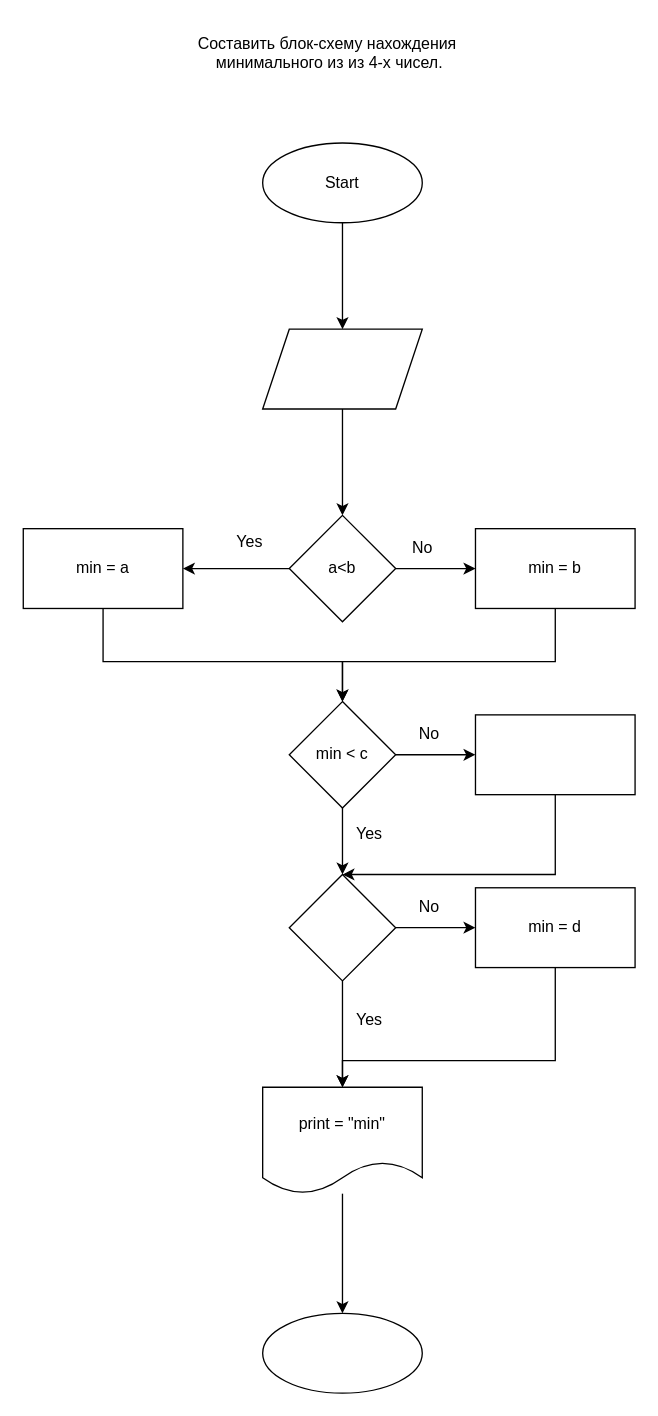
The diagram is 658 pixels wide and 1416 high, and some of its shapes have lost their labels. The centre of each missing label's shape, as x and y in pixels:
a,b,c,d: pixel 341 368
min < d: pixel 342 927
min = c: pixel 554 754
Stop: pixel 341 1352
